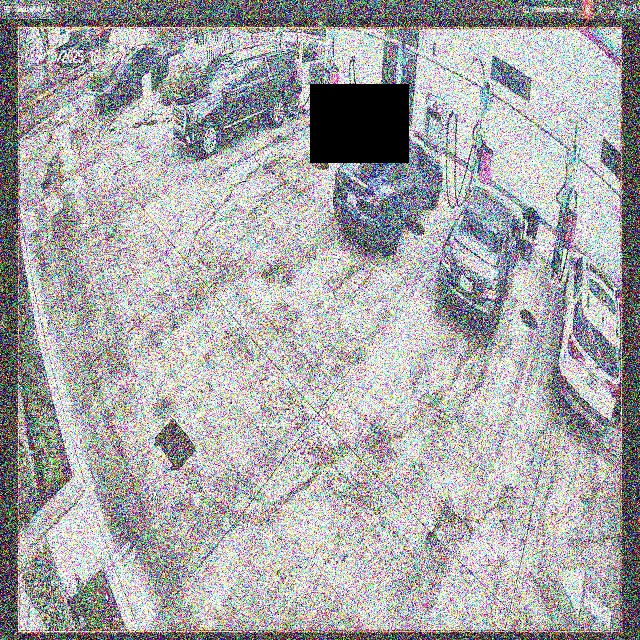Car: (334, 124, 441, 254), (437, 185, 522, 331)
